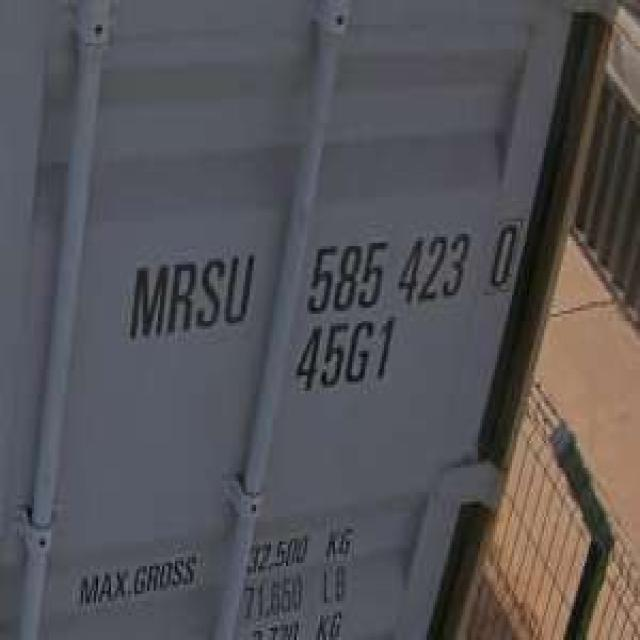dv: (484, 210, 523, 296)
owner: (122, 237, 258, 345)
serial: (298, 221, 472, 317)
size: (290, 311, 401, 397)
